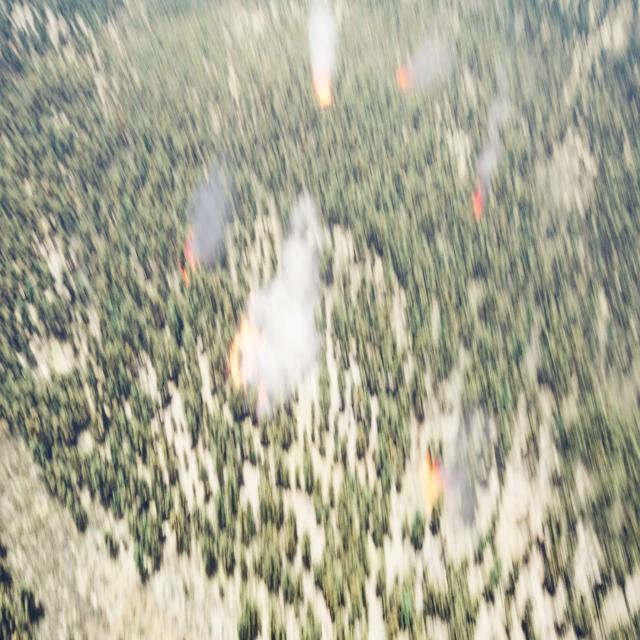fire: (223, 313, 264, 404), (418, 452, 446, 516), (178, 231, 201, 268), (309, 73, 334, 104), (466, 186, 489, 219), (397, 64, 413, 102)
smoke: (253, 196, 319, 406), (183, 154, 234, 280), (434, 429, 482, 536), (304, 1, 340, 104), (476, 93, 513, 188), (408, 20, 448, 104)
